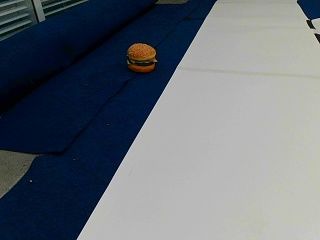burger: (126, 41, 156, 72)
